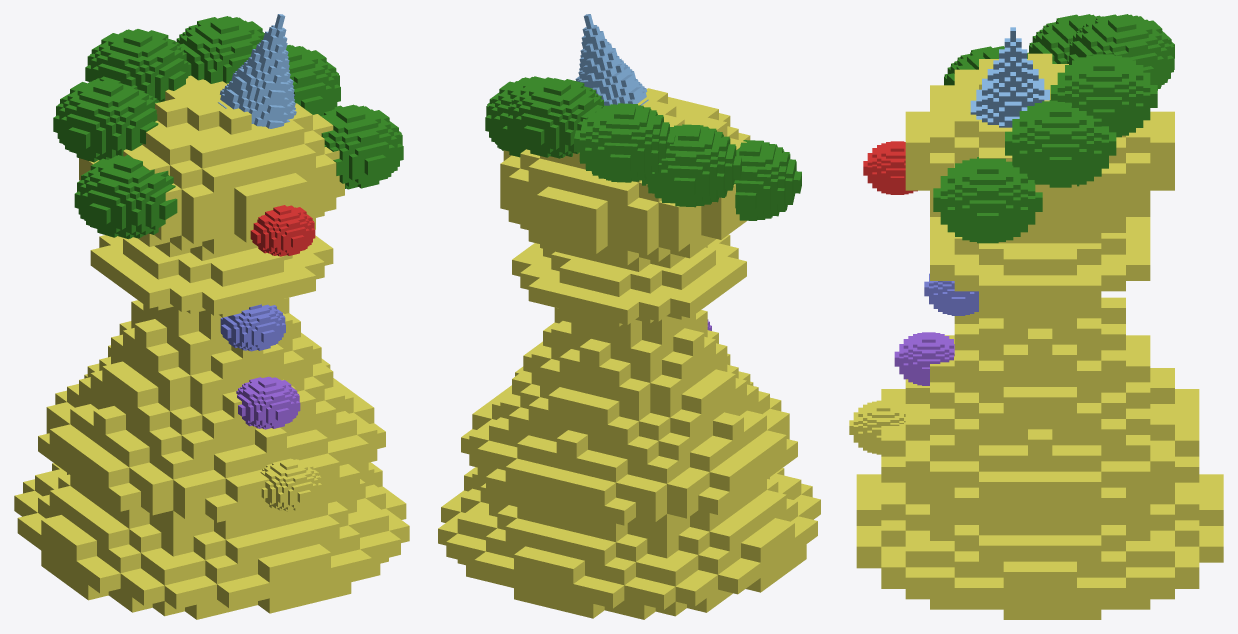
Rendered from ClownFix.fbx.
3 renders of one model, left to right at view 1: azimuth 30°, elevation 25°; view 2: azimuth 150°, elevation 25°; view 3: azimuth 270°, elevation 25°, orthographic. The views are drawn at different scales.
Visible parts, largest first — view 1: basic_pawn_mesh.003; view 2: basic_pawn_mesh.003; view 3: basic_pawn_mesh.003.
Boxes of the visible parts, bbox=[...] form: basic_pawn_mesh.003: bbox=[14, 14, 409, 619]; basic_pawn_mesh.003: bbox=[438, 14, 820, 619]; basic_pawn_mesh.003: bbox=[849, 14, 1223, 619].
Size of the model in its own units: 169 by 270 by 169.
